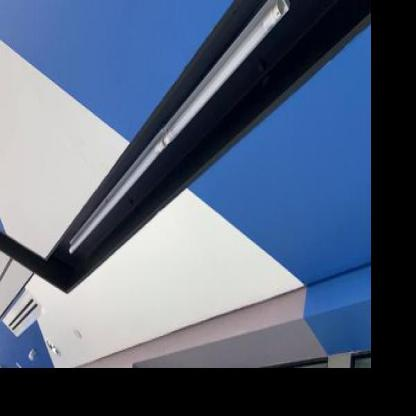light_off: (61, 0, 293, 272)
